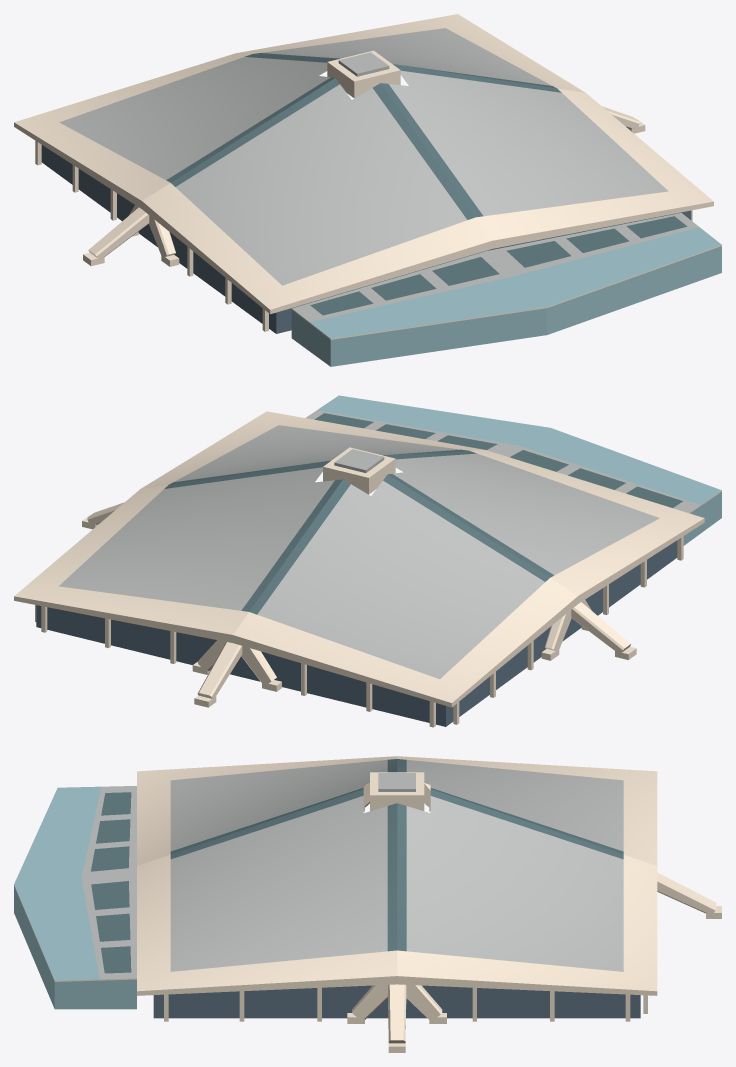
3 renders of one model, top to bottom at view 1: azimuth 30°, elevation 25°; view 2: azimuth 150°, elevation 25°; view 3: azimuth 270°, elevation 25°, orthographic. The views are drawn at different scales.
Visible parts, largest first — view 1: climate-pledge-arena; view 2: climate-pledge-arena; view 3: climate-pledge-arena.
Part boxes in pixels (x1,y1,x2,y2): climate-pledge-arena: (14, 14, 721, 366); climate-pledge-arena: (14, 395, 721, 727); climate-pledge-arena: (14, 756, 721, 1052).
Bounding box in the file's own units: 155 × 35.4 × 169.
